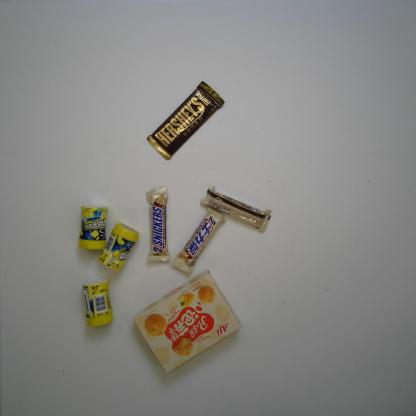Chocolate: (146, 79, 224, 164), (168, 208, 228, 277), (198, 184, 273, 236), (144, 183, 173, 268)
Dessert: (131, 267, 242, 378)
Gum: (96, 221, 143, 274), (76, 200, 111, 254), (80, 276, 114, 330)
